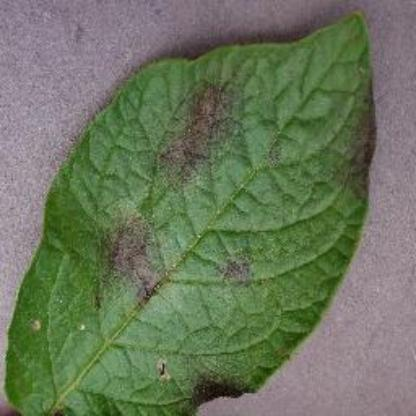Late-Blight: (4, 34, 400, 416)
